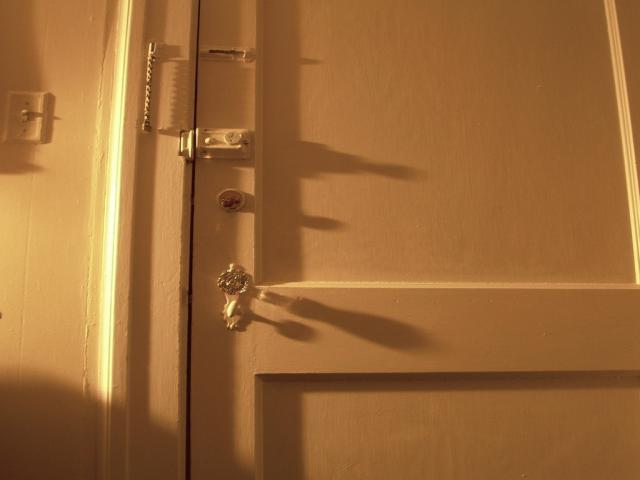Door-handle: (216, 262, 248, 328)
